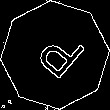P_SW: (25, 24, 85, 86)
